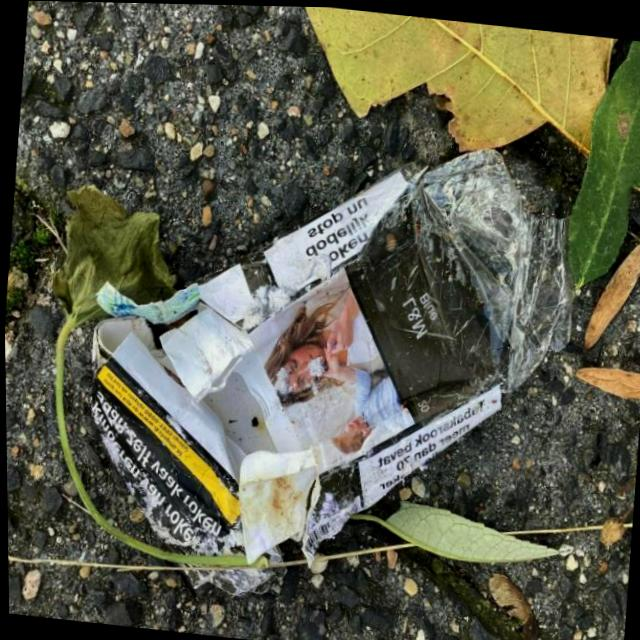Paper: (59, 98, 595, 632)
